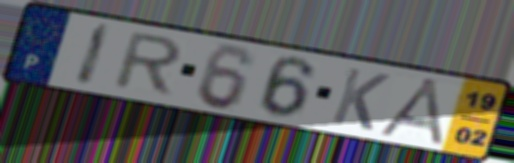6: (193, 42, 259, 112), (257, 55, 320, 121)
A: (373, 76, 451, 148)
I: (71, 20, 115, 90)
K: (327, 65, 393, 134)
R: (109, 30, 187, 98)
